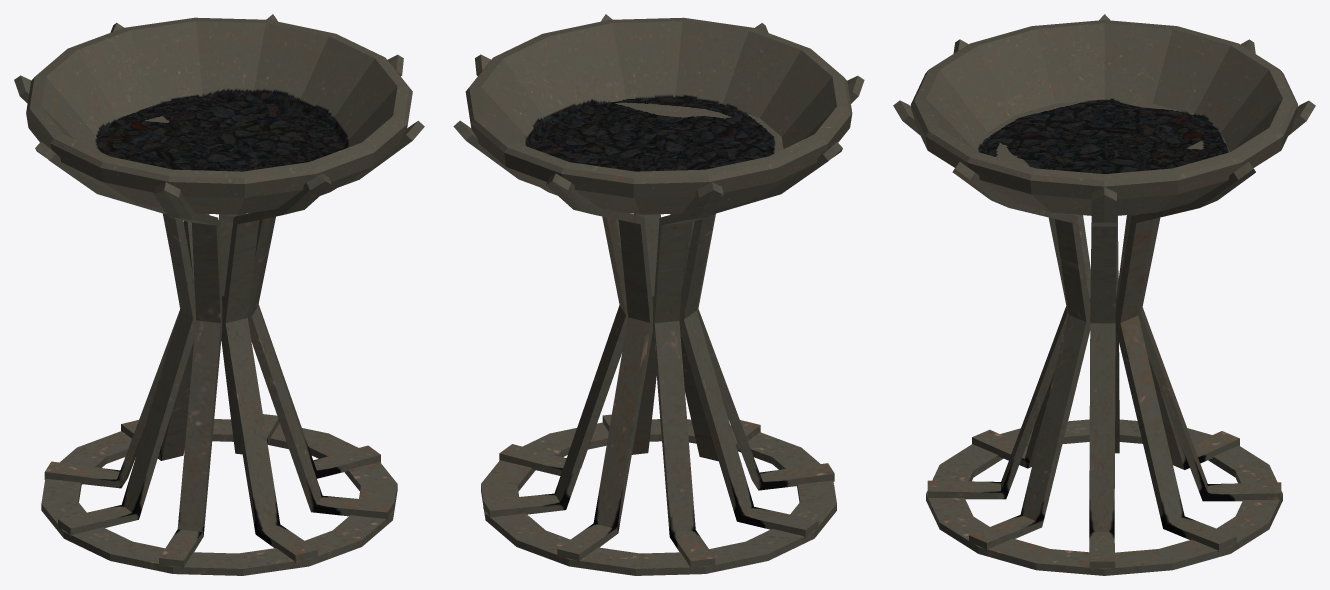
File: brazier.fbx
3 views of the same model, side by side, from view 1: azimuth 30°, elevation 25°; view 2: azimuth 150°, elevation 25°; view 3: azimuth 270°, elevation 25° (orthographic).
Visible parts, largest first — view 1: brazier LP; view 2: brazier LP; view 3: brazier LP.
Boxes of the visible parts, x1,y1,x2,y2 form: brazier LP: [14, 14, 424, 575]; brazier LP: [453, 14, 864, 575]; brazier LP: [893, 14, 1315, 575].
Bounding box in the file's own units: 237 × 248 × 237.
